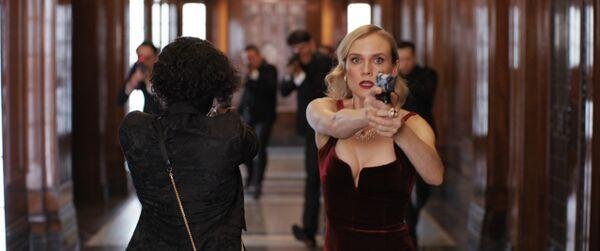Gun: (376, 71, 397, 106)
